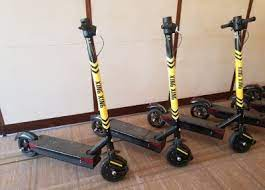kick_board: (14, 17, 126, 180)
kick_handler: (221, 16, 257, 31), (78, 18, 96, 36), (160, 16, 177, 33)
kick_neck: (85, 41, 111, 143), (165, 36, 180, 132), (234, 34, 244, 117)
kick_wheel: (102, 156, 127, 180), (168, 144, 189, 166), (17, 134, 36, 156), (146, 108, 165, 127), (232, 131, 250, 151), (190, 102, 209, 119)
